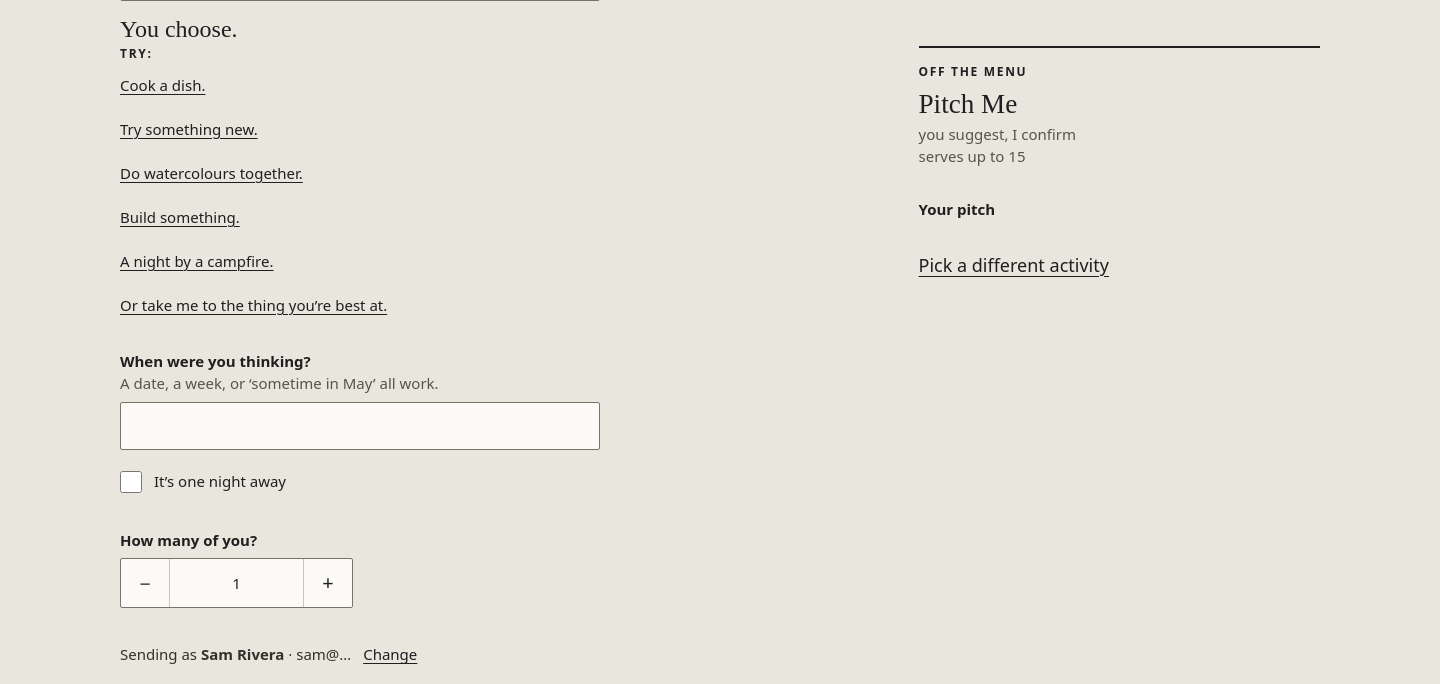
Test: Pitch Me (T1.6.U5) › "It’s one night away" reveals "Which night?" (single line, 60 max) and adds to the rail
(page scrolled)
Click the checkbox labelled "It’s one night away" at (131, 482), box [120, 471, 142, 493]
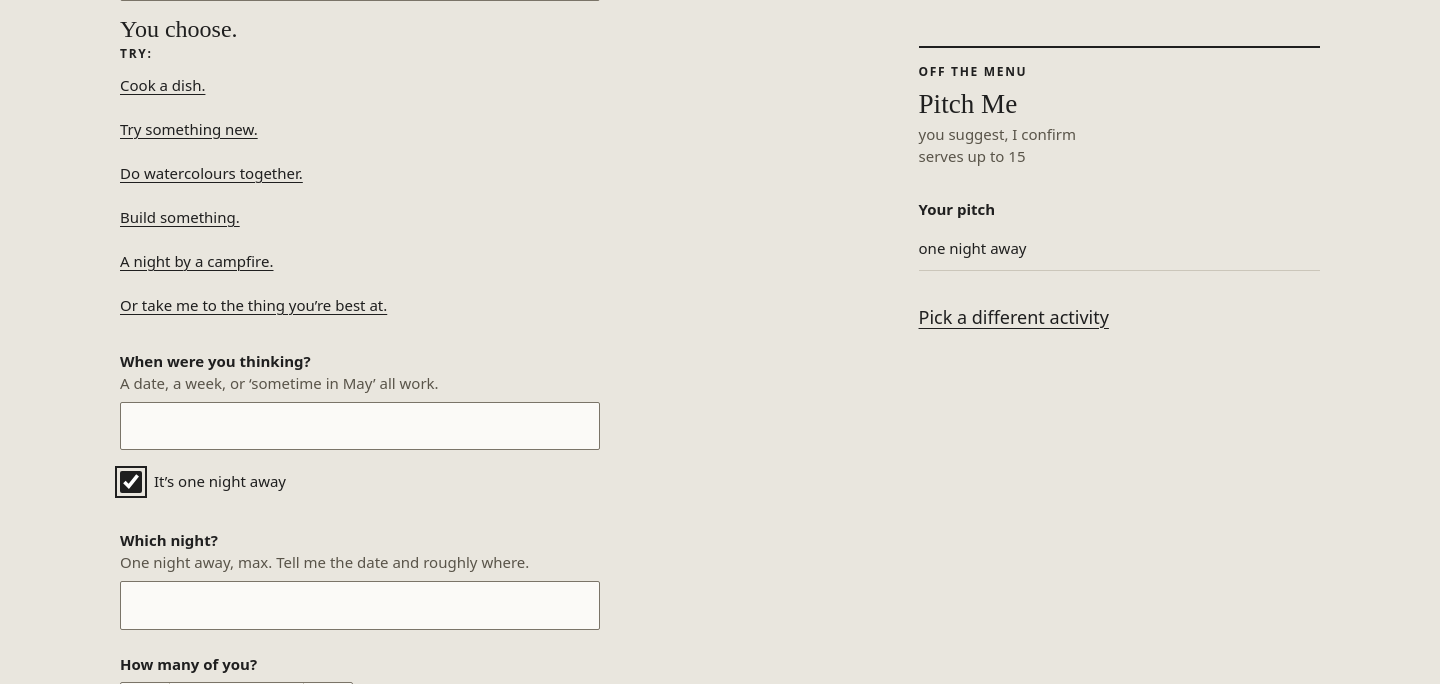
Type "Sat Jun 12, up Indian Arm" into the 2nd field at (360, 606), box [120, 582, 600, 630]
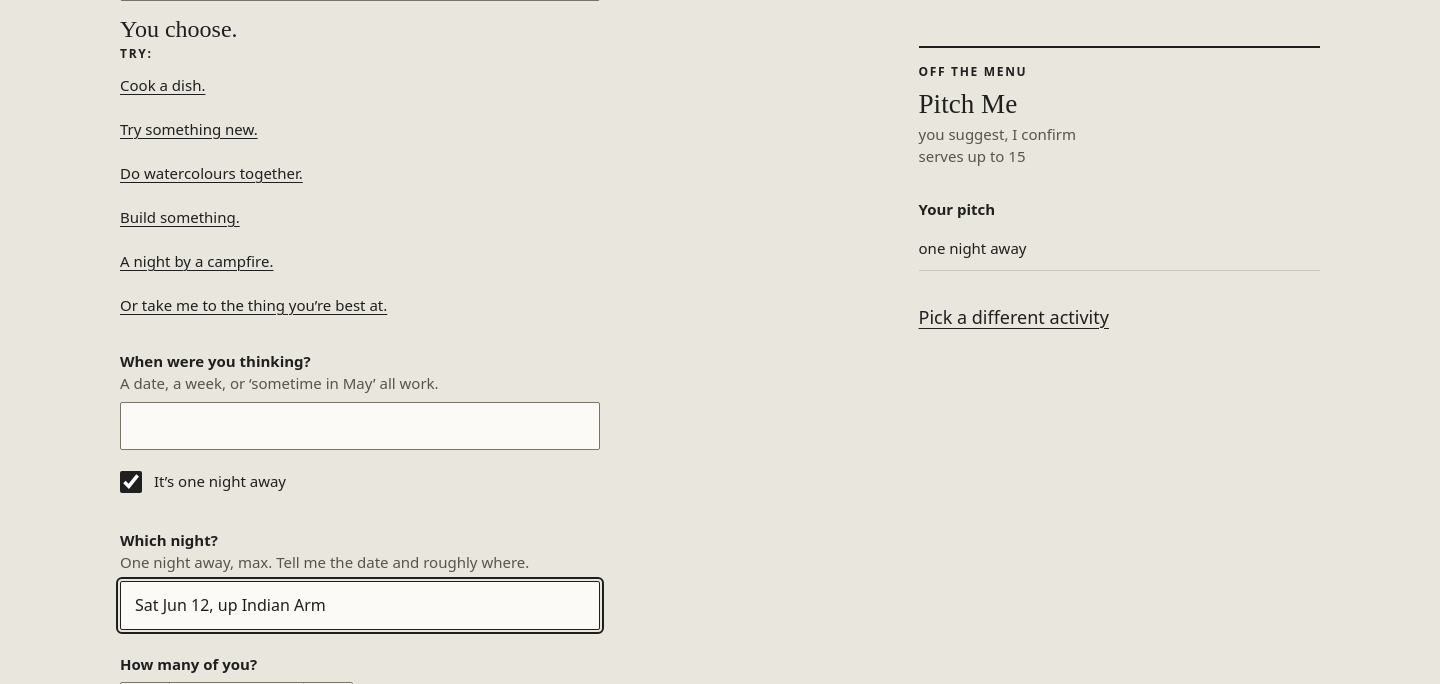
Type "sometime in June" into the 1st field at (360, 426), box [120, 402, 600, 450]
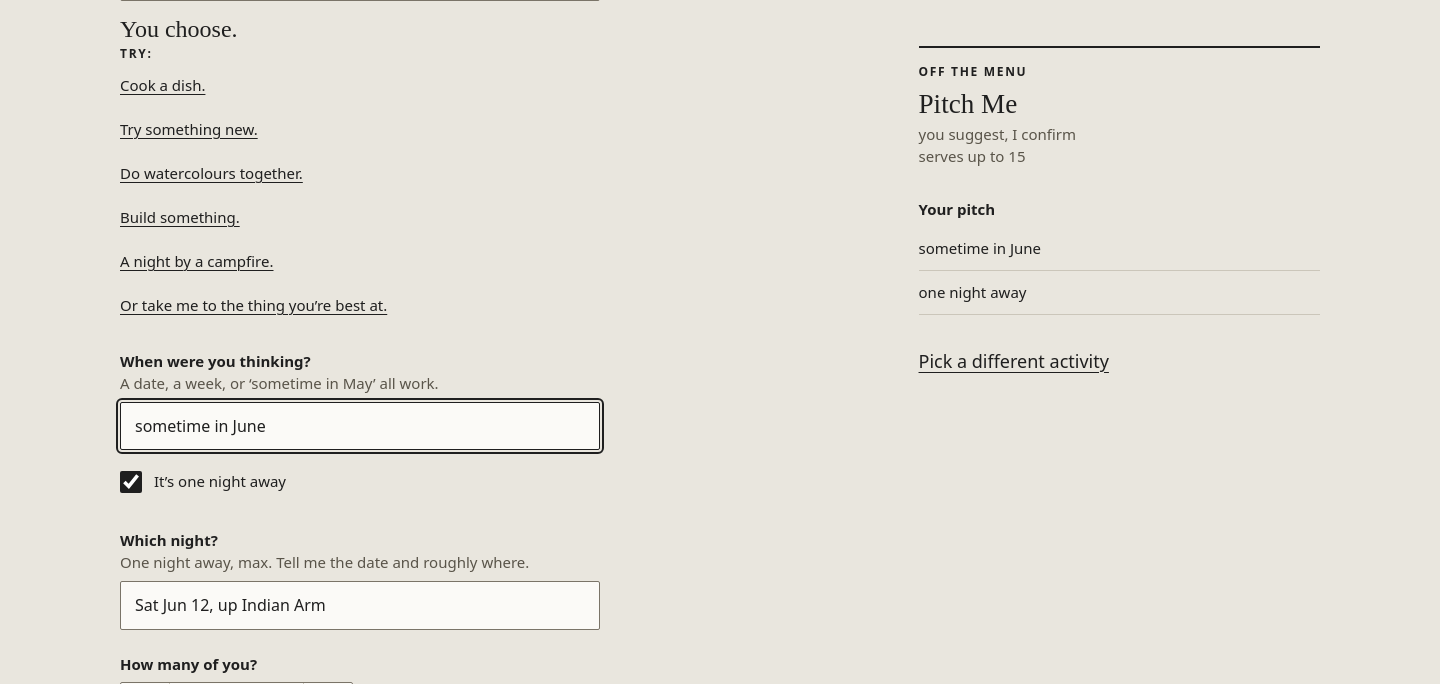
Expected: the heading "Your pitch" is shown, [918, 200, 995, 220]
Now the list items read "sometime in June", "one night away", in this order, box [918, 228, 1320, 272]; [918, 272, 1320, 316]
